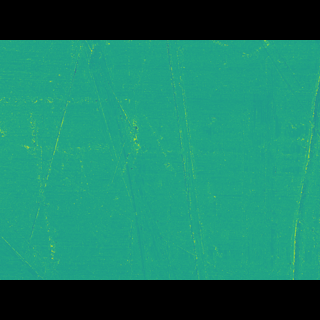Loch: (68, 69, 177, 249), (239, 97, 320, 251), (158, 69, 215, 250)
